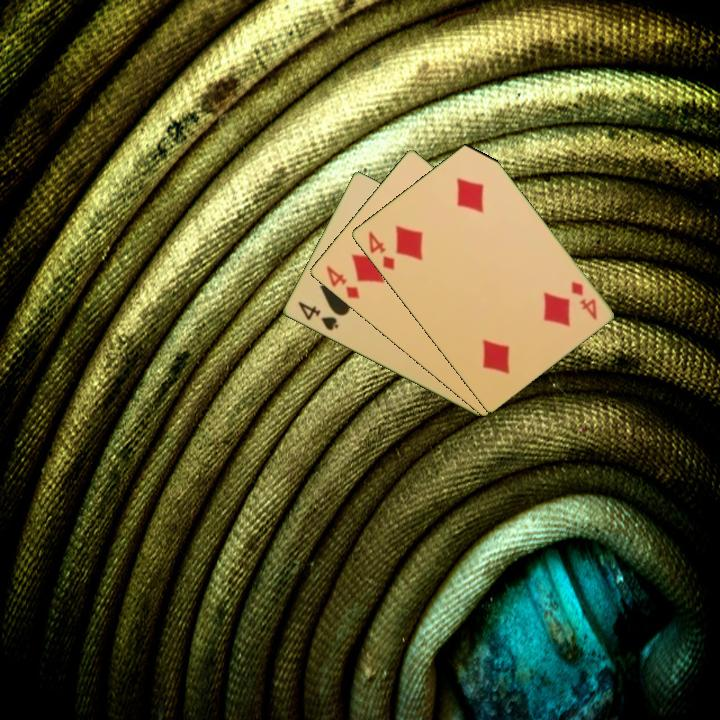4d: (322, 262, 362, 302), (364, 228, 397, 274), (567, 277, 600, 323)
4s: (294, 298, 341, 334)
